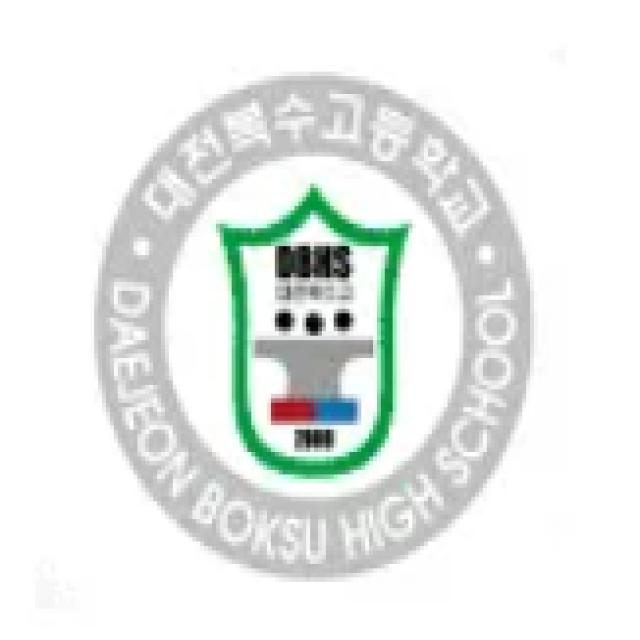logo: (201, 367, 236, 395), (142, 233, 175, 258), (100, 120, 131, 143)
